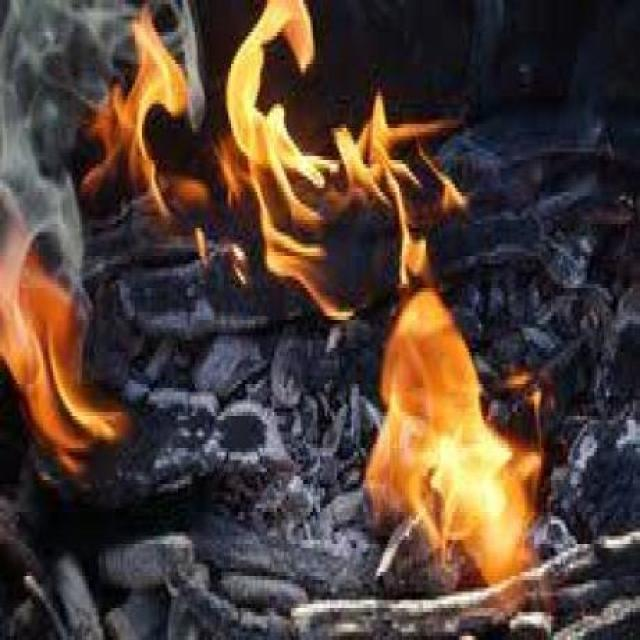Fire: (80, 6, 464, 281), (339, 280, 566, 594), (0, 222, 134, 468)
